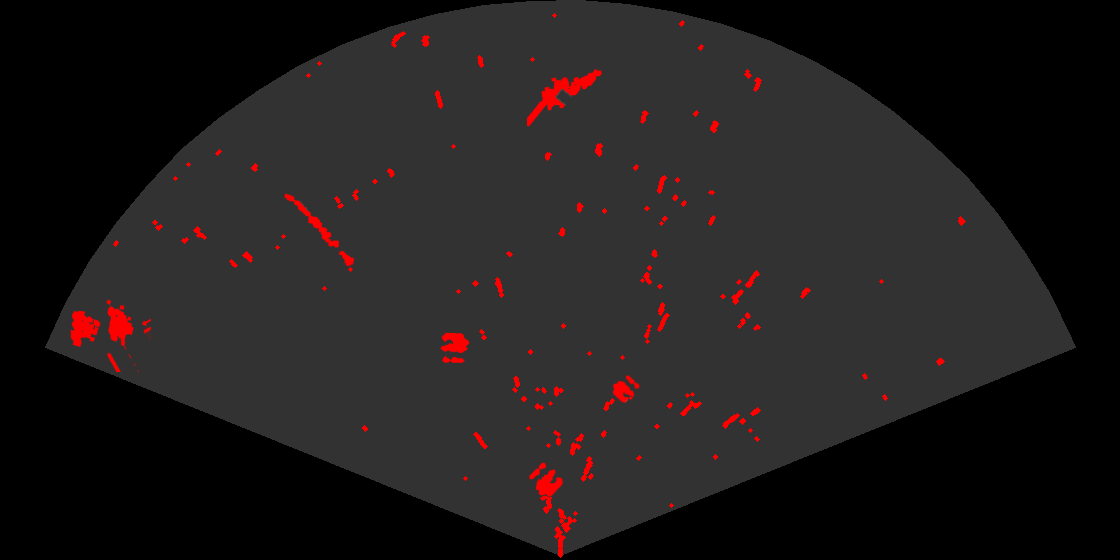ball: (528, 461, 564, 498), (439, 331, 471, 365), (611, 374, 641, 404)
cage: (69, 298, 151, 372)
chain: (283, 192, 356, 268)
frogman: (527, 68, 604, 126)
